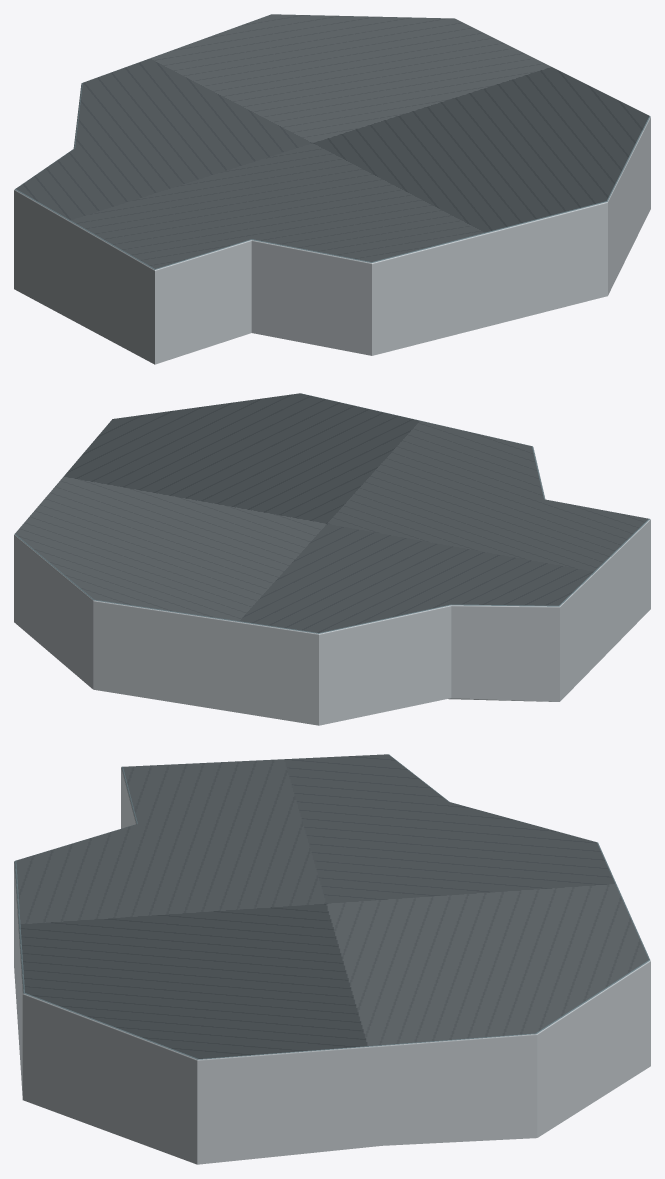
The model's file is intact.glb.
The picture shows the model from 3 angles, top to bottom: view 1: azimuth 30°, elevation 25°; view 2: azimuth 150°, elevation 25°; view 3: azimuth 270°, elevation 25°; orthographic projection. The views are drawn at different scales.
Visible parts, largest first — view 1: SM_arts_Intact_00; view 2: SM_arts_Intact_00; view 3: SM_arts_Intact_00.
Boxes of the visible parts, <box> form: SM_arts_Intact_00: <box>14,14,650,364</box>; SM_arts_Intact_00: <box>14,393,650,725</box>; SM_arts_Intact_00: <box>14,754,650,1164</box>.
Size of the model in its own units: 2.2 by 0.3809 by 1.94.
3 materials, 1 textured.
